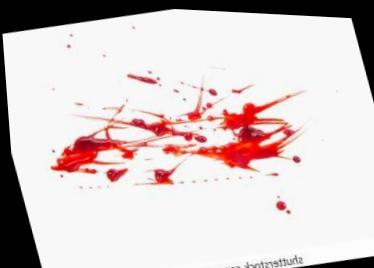Fire: (47, 74, 302, 183), (125, 74, 156, 82), (273, 198, 284, 208), (290, 153, 299, 160), (282, 207, 288, 211), (265, 172, 277, 174)
